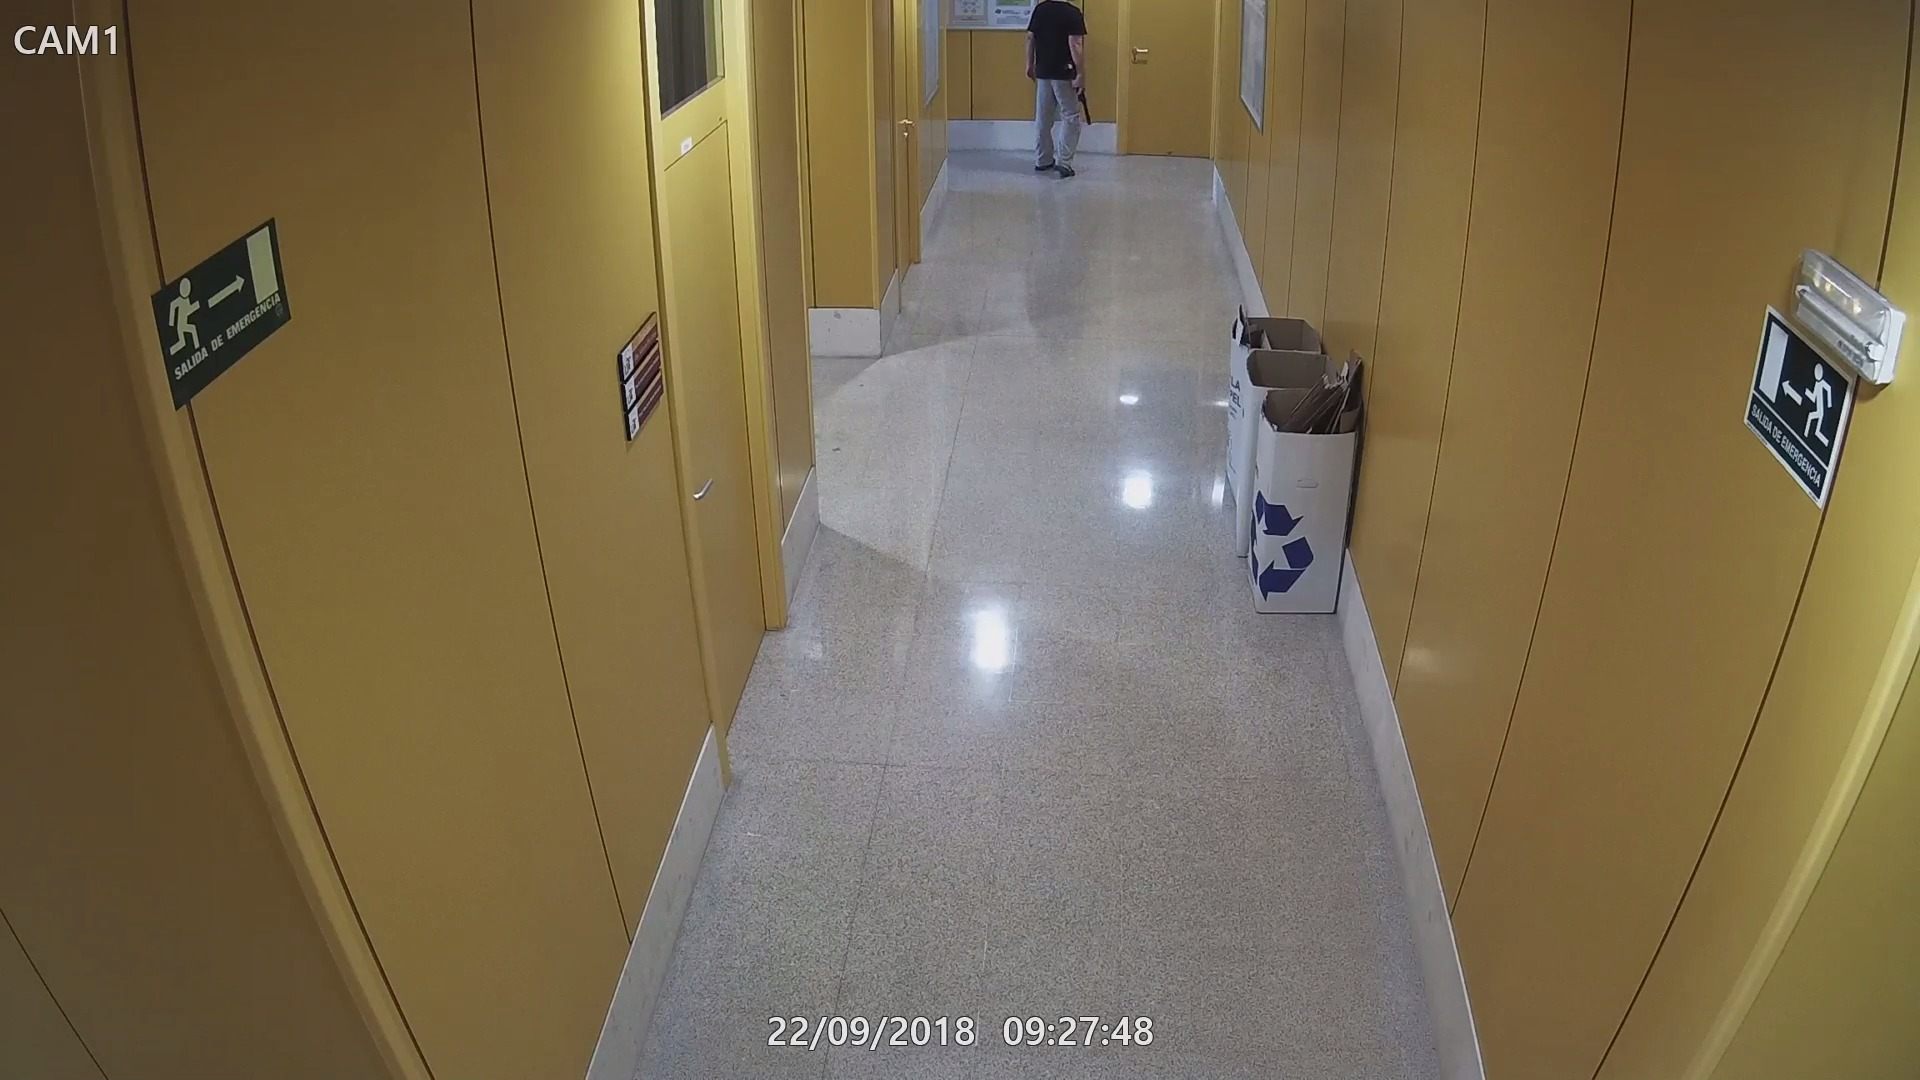Short_rifle: (1069, 63, 1096, 127)
